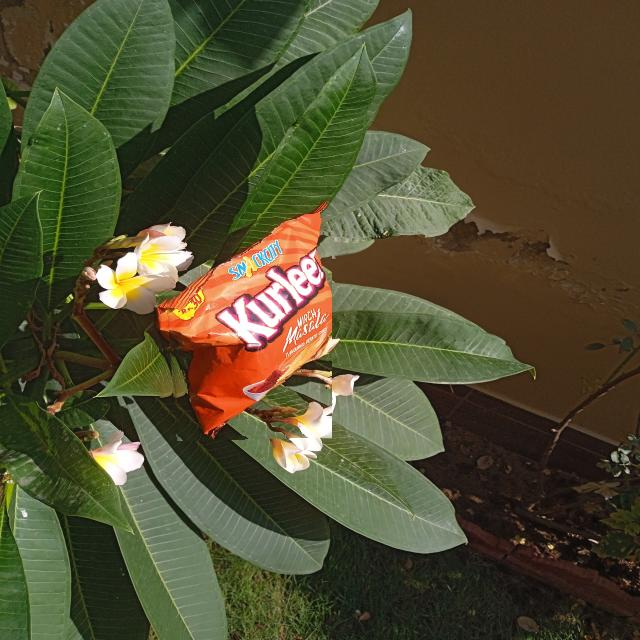Plastic: (160, 214, 332, 441)
